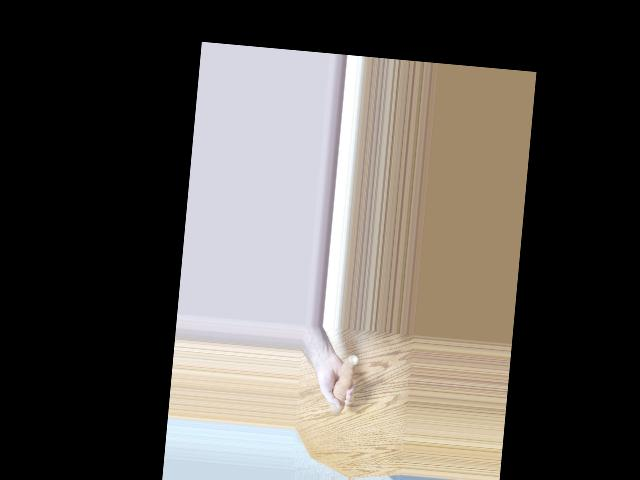sweet_potato: (326, 347, 356, 410)
